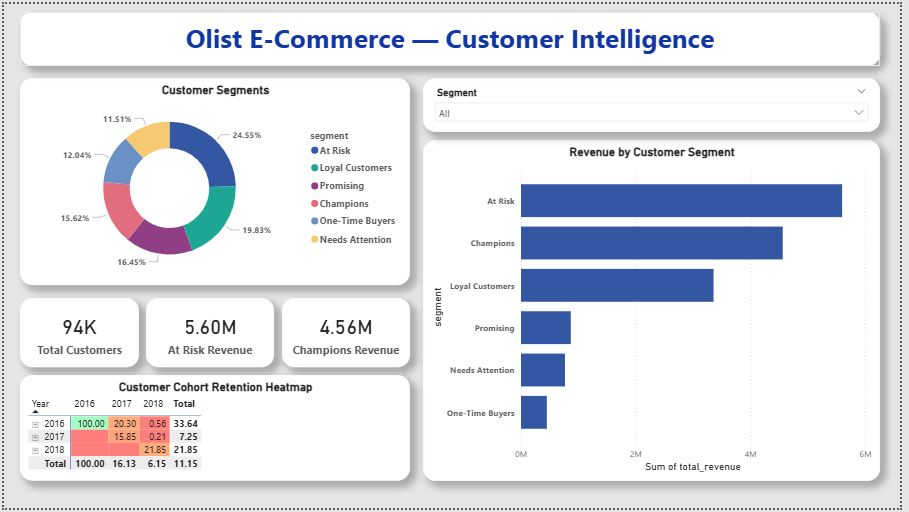

The page's visual inventory and layout, read from the dashboard file:
{"tool":"powerbi","page":{"name":"Customer Intelligence","canvas":[1280,720],"ordinal":1},"visuals":[{"type":"donutChart","title":"Customer Segments","fields":{"Category":["rfm_segments.segment"],"Y":["Sum(rfm_segments.customer_count)"]},"box":[22.9,105.7,557.1,295.7],"z":0},{"type":"clusteredBarChart","title":"Revenue by Customer Segment","fields":{"Category":["rfm_segments.segment"],"Y":["Sum(rfm_segments.total_revenue)"]},"box":[598.6,194.3,652.9,487.1],"z":1000},{"type":"card","fields":{"Values":["Sum(rfm_segments.customer_count)"]},"box":[22.9,420,170,98.6],"z":2000},{"type":"card","fields":{"Values":["Sum(rfm_segments.total_revenue)"]},"box":[202.9,420,182.9,98.6],"z":3000},{"type":"card","fields":{"Values":["Sum(rfm_segments.total_revenue)"]},"box":[397.1,420,182.9,98.6],"z":4000},{"type":"pivotTable","title":"Customer Cohort Retention Heatmap","fields":{"Rows":["cohort_retention.cohort_month.Variation.Date Hierarchy.Year","cohort_retention.cohort_month.Variation.Date Hierarchy.Quarter","cohort_retention.cohort_month.Variation.Date Hierarchy.Month","cohort_retention.cohort_month.Variation.Date Hierarchy.Day"],"Columns":["cohort_retention.order_month.Variation.Date Hierarchy.Year","cohort_retention.order_month.Variation.Date Hierarchy.Quarter","cohort_retention.order_month.Variation.Date Hierarchy.Month","cohort_retention.order_month.Variation.Date Hierarchy.Day"],"Values":["Avg(cohort_retention.retention_pct)"]},"box":[22.9,530,557.1,151.4],"z":5000},{"type":"slicer","fields":{"Values":["rfm_segments.segment"]},"box":[598.6,105.7,652.9,77.1],"z":6000},{"type":"textbox","box":[22.9,11.4,1228.6,77.1],"z":7000}]}

Visuals, with their boxes in screenshot pixels (x1, y1, x2, y2), scaled from the page's 1280x720 canvas onto the 909x512 screenshot:
"Customer Segments" donutChart: {"x1": 16, "y1": 75, "x2": 412, "y2": 285}
"Revenue by Customer Segment" clusteredBarChart: {"x1": 425, "y1": 138, "x2": 889, "y2": 485}
card - Sum(rfm_segments.customer_count): {"x1": 16, "y1": 299, "x2": 137, "y2": 369}
card - Sum(rfm_segments.total_revenue): {"x1": 144, "y1": 299, "x2": 274, "y2": 369}
card - Sum(rfm_segments.total_revenue): {"x1": 282, "y1": 299, "x2": 412, "y2": 369}
"Customer Cohort Retention Heatmap" pivotTable: {"x1": 16, "y1": 377, "x2": 412, "y2": 485}
slicer - rfm_segments.segment: {"x1": 425, "y1": 75, "x2": 889, "y2": 130}
textbox: {"x1": 16, "y1": 8, "x2": 889, "y2": 63}
